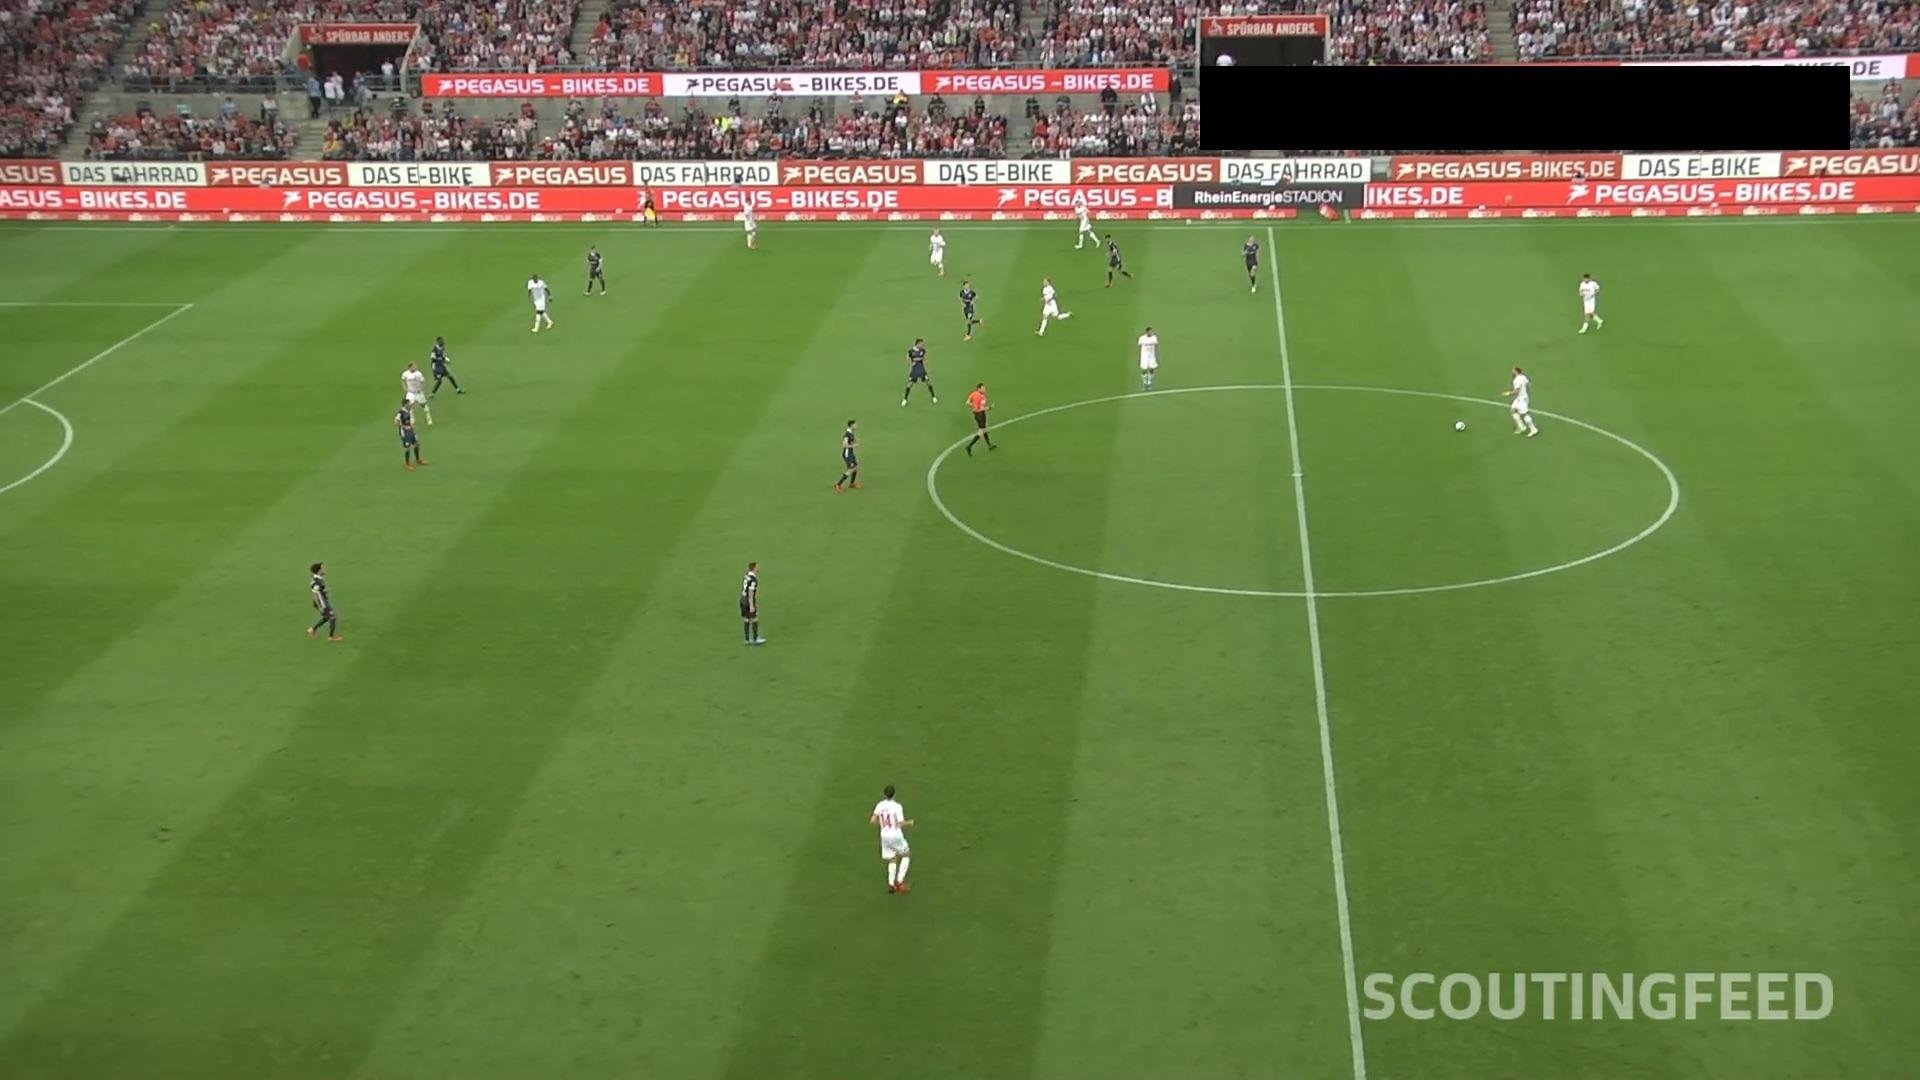ball: (1455, 421, 1466, 433)
